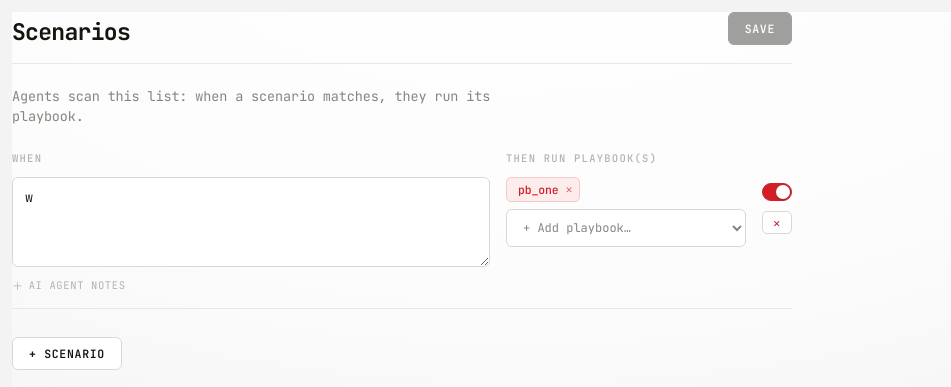
Test: ScenariosEditor › disables Save until there is a change
The image size is (951, 387).
expect the button "Save" is disabled: met, box left=728, top=12, right=792, bottom=45
Type "x" into the text box showing "w". click: [251, 222]
box: left=12, top=176, right=490, bottom=267
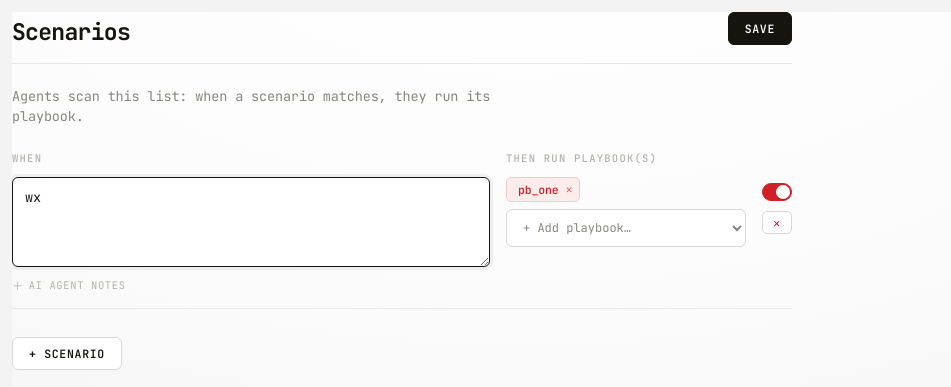
expect the button "Save" is enabled: met, box left=728, top=12, right=792, bottom=45
